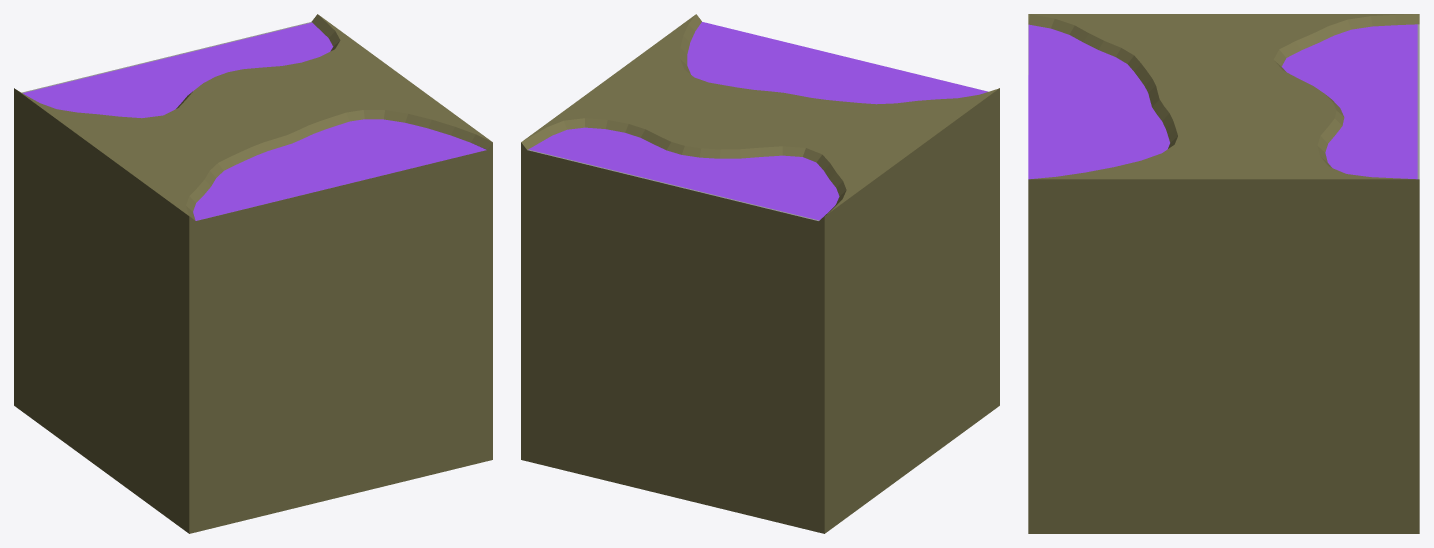
File: tile_toxic_3e_03.fbx
The picture shows the model from 3 angles, left to right: view 1: azimuth 30°, elevation 25°; view 2: azimuth 150°, elevation 25°; view 3: azimuth 270°, elevation 25°; orthographic projection. The views are drawn at different scales.
Parts seen in each view (by area): view 1: tile_toxic_3e_03; view 2: tile_toxic_3e_03; view 3: tile_toxic_3e_03.
Part boxes in pixels (x1=…): tile_toxic_3e_03: x1=14, y1=14, x2=492, y2=533; tile_toxic_3e_03: x1=521, y1=14, x2=999, y2=533; tile_toxic_3e_03: x1=1028, y1=14, x2=1419, y2=533.
Size of the model in its own units: 100 by 100 by 100.
